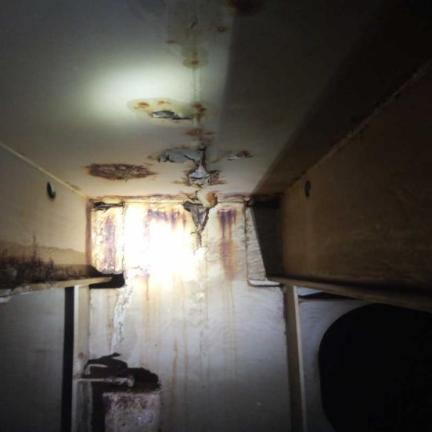besi_tidak_karat: (282, 68, 431, 293), (0, 146, 89, 274)
karat: (0, 240, 95, 289), (92, 206, 124, 274), (217, 208, 236, 279), (85, 163, 156, 181), (182, 201, 209, 247), (188, 153, 211, 187), (149, 149, 191, 163), (151, 110, 190, 119), (93, 201, 123, 209), (46, 182, 56, 200), (304, 180, 311, 197)
